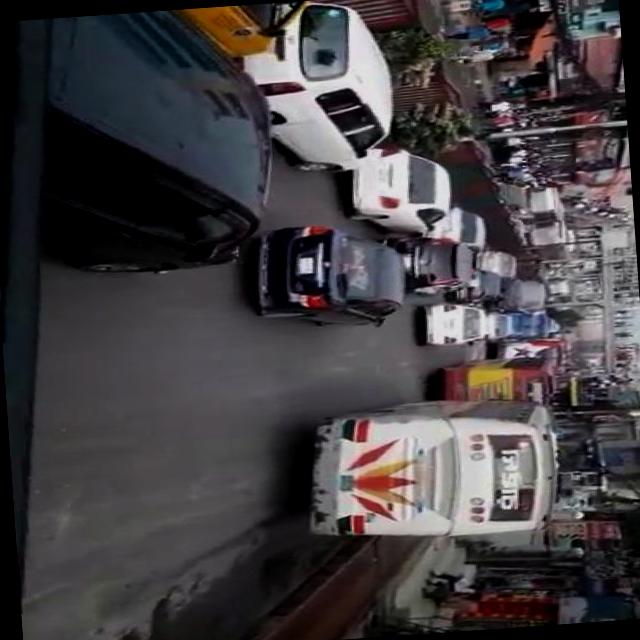bus: (299, 392, 566, 548), (439, 356, 556, 413), (496, 337, 568, 375), (525, 218, 574, 264), (522, 186, 568, 223)
car: (241, 0, 401, 181), (256, 220, 409, 336), (346, 144, 455, 242), (424, 205, 488, 258), (424, 301, 489, 348), (448, 270, 504, 306), (474, 250, 518, 282), (486, 309, 516, 342)
truck: (31, 4, 282, 283), (492, 276, 550, 316), (511, 311, 552, 342)
